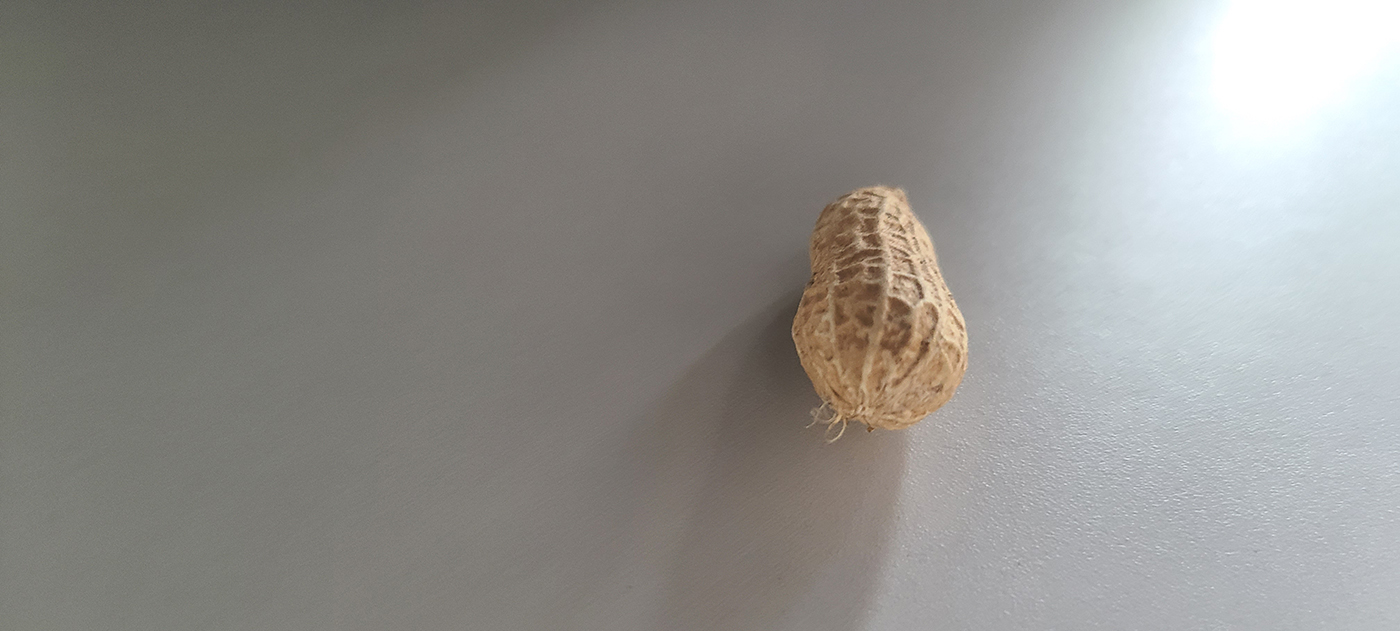h: (791, 177, 969, 424)
